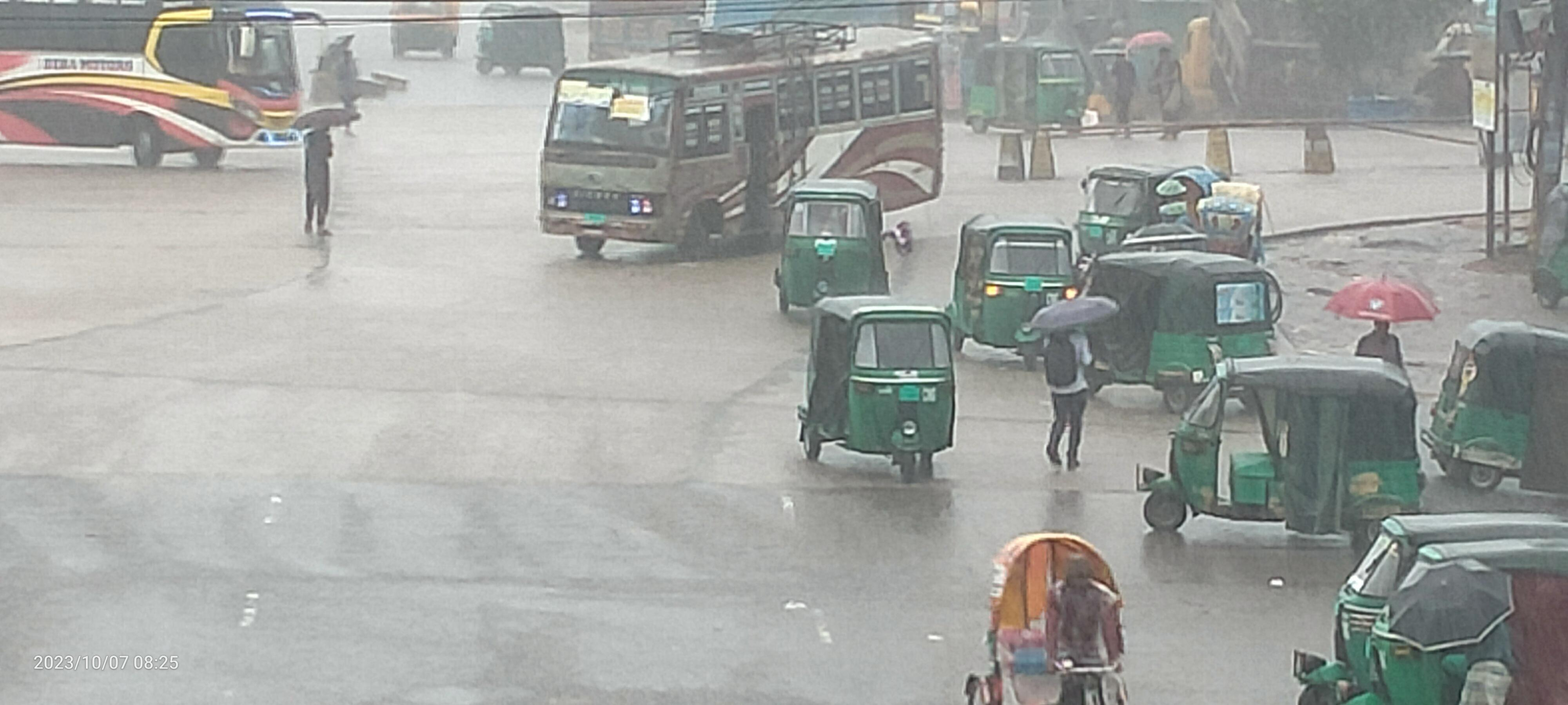Bus: (503, 14, 983, 273), (0, 0, 347, 194)
Car: (914, 508, 1173, 705)
